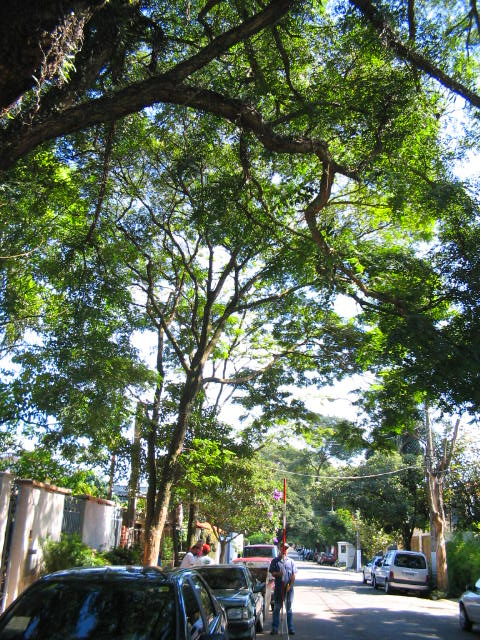stem: (127, 518, 170, 634)
stick: (274, 475, 288, 634)
tree: (122, 126, 301, 635)
